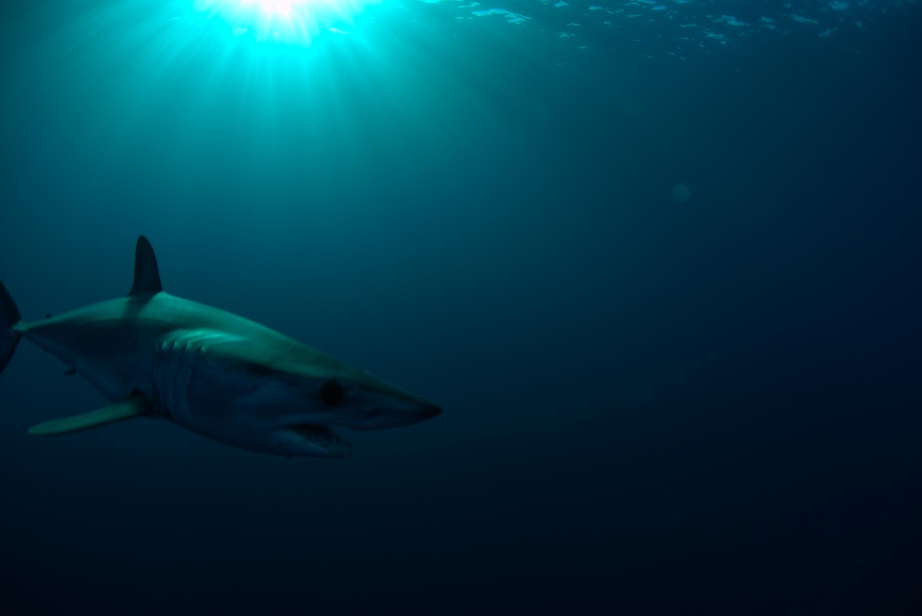Mako: (3, 231, 465, 484)
